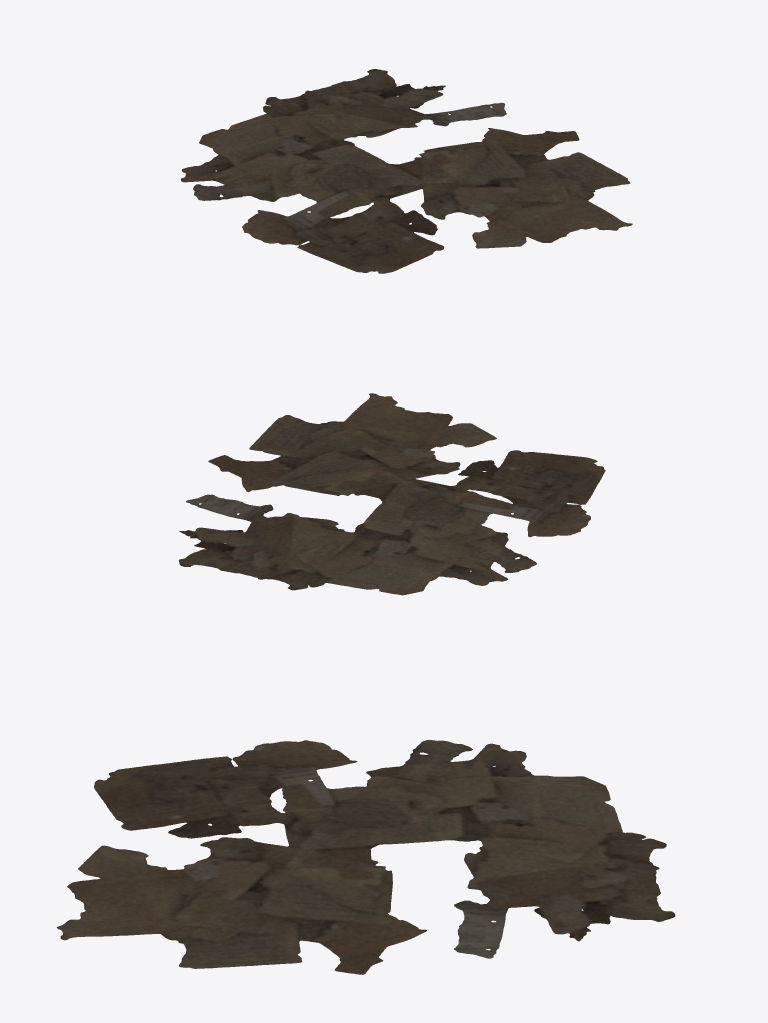
The model's file is trash_4.obj.
3 renders of one model, top to bottom at view 1: azimuth 30°, elevation 25°; view 2: azimuth 150°, elevation 25°; view 3: azimuth 270°, elevation 25°, orthographic. The views are drawn at different scales.
Parts seen in each view (by area): view 1: trash_4; view 2: trash_4; view 3: trash_4.
Part boxes in pixels (bbox=[...]): trash_4: bbox=[181, 69, 632, 273]; trash_4: bbox=[178, 393, 605, 595]; trash_4: bbox=[56, 740, 675, 974].
Bounding box in the file's own units: 1 × 0.0147 × 1.
